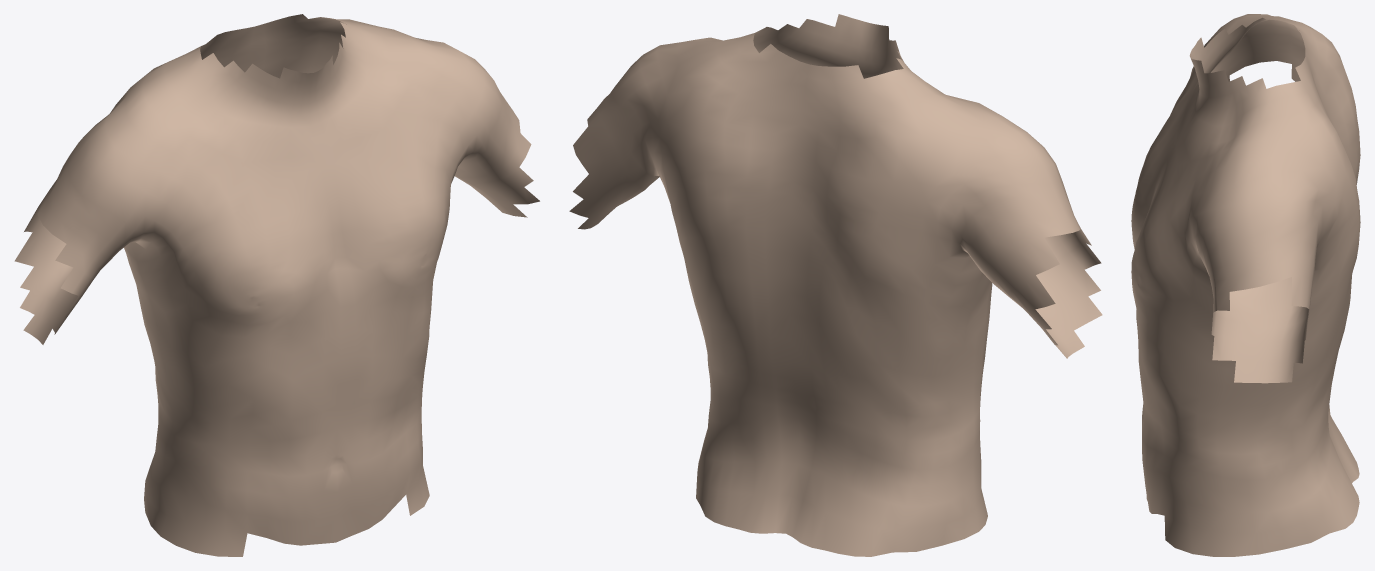
Rendered from male_tshirt_template.glb.
3 views of the same model, side by side, from view 1: azimuth 30°, elevation 25°; view 2: azimuth 150°, elevation 25°; view 3: azimuth 270°, elevation 25° (orthographic). The views are drawn at different scales.
Parts seen in each view (by area): view 1: Male_Tshirt_Template; view 2: Male_Tshirt_Template; view 3: Male_Tshirt_Template.
Boxes of the visible parts, x1=… form: Male_Tshirt_Template: x1=14, y1=14, x2=539, y2=556; Male_Tshirt_Template: x1=569, y1=14, x2=1102, y2=556; Male_Tshirt_Template: x1=1131, y1=14, x2=1360, y2=556.
Size of the model in its own units: 55.21 by 50.73 by 23.25.
